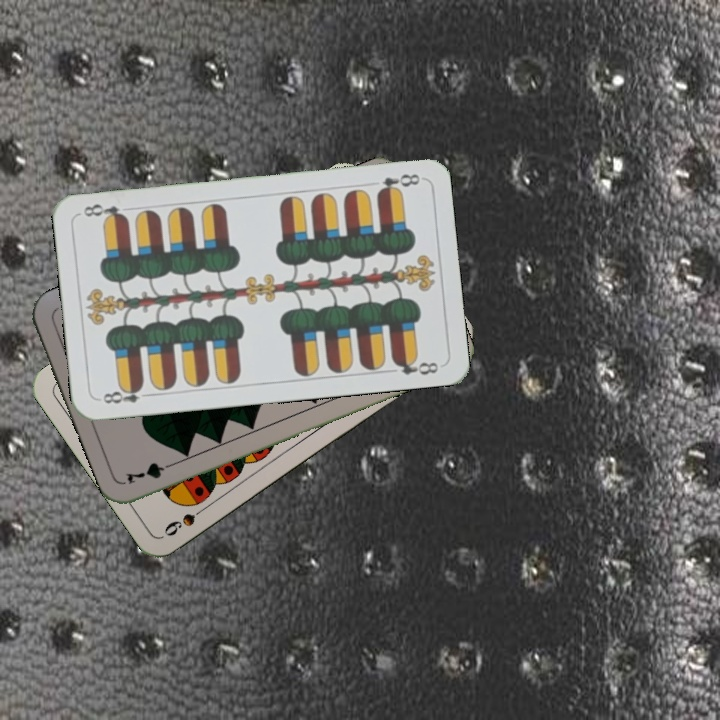E8: (98, 381, 155, 407), (373, 170, 422, 197)
G7: (122, 457, 180, 487)
S9: (159, 500, 213, 539)
